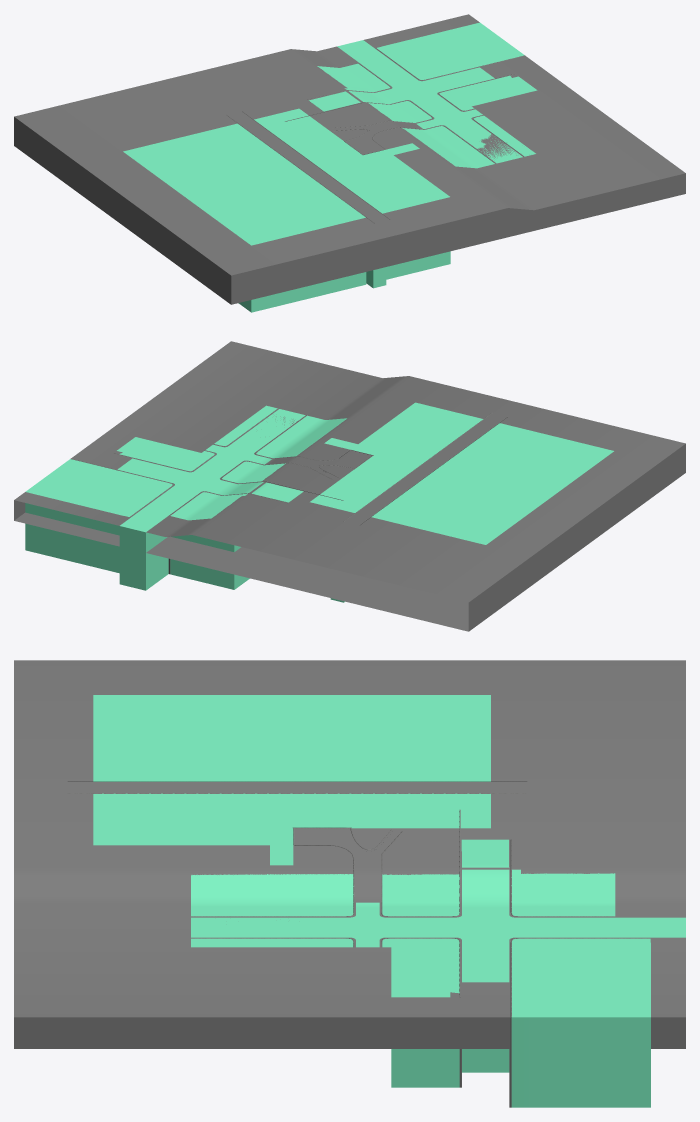
The model's file is EV_CityFloor_Last.fbx.
The picture shows the model from 3 angles, top to bottom: view 1: azimuth 30°, elevation 25°; view 2: azimuth 150°, elevation 25°; view 3: azimuth 270°, elevation 25°; orthographic projection. The views are drawn at different scales.
Visible parts, largest first — view 1: EV_FloorColiderFlat, EV_HumanRoad2, EV_HumanRoad, EV_Road, EV_CornerStone; view 2: EV_FloorColiderFlat, EV_HumanRoad2, EV_HumanRoad, EV_Road, EV_CornerStone; view 3: EV_FloorColiderFlat, EV_HumanRoad2, EV_HumanRoad, EV_Road, EV_CornerStone, EV_CornerStone2.
Part boxes in pixels (<box>): EV_FloorColiderFlat: <box>14,14,685,304</box>; EV_HumanRoad2: <box>123,108,450,312</box>; EV_HumanRoad: <box>317,22,537,168</box>; EV_Road: <box>309,40,522,163</box>; EV_CornerStone: <box>285,48,524,163</box>; EV_FloorColiderFlat: <box>14,341,685,631</box>; EV_HumanRoad2: <box>310,402,613,544</box>; EV_HumanRoad: <box>25,405,346,589</box>; EV_Road: <box>117,409,305,590</box>; EV_CornerStone: <box>70,408,373,574</box>; EV_FloorColiderFlat: <box>14,660,685,1048</box>; EV_HumanRoad2: <box>93,695,490,865</box>; EV_HumanRoad: <box>191,869,650,1107</box>; EV_Road: <box>191,839,685,1072</box>; EV_CornerStone: <box>191,809,650,1107</box>; EV_CornerStone2: <box>67,781,526,793</box>.
Size of the model in its own units: 34476 by 4875 by 28515.
